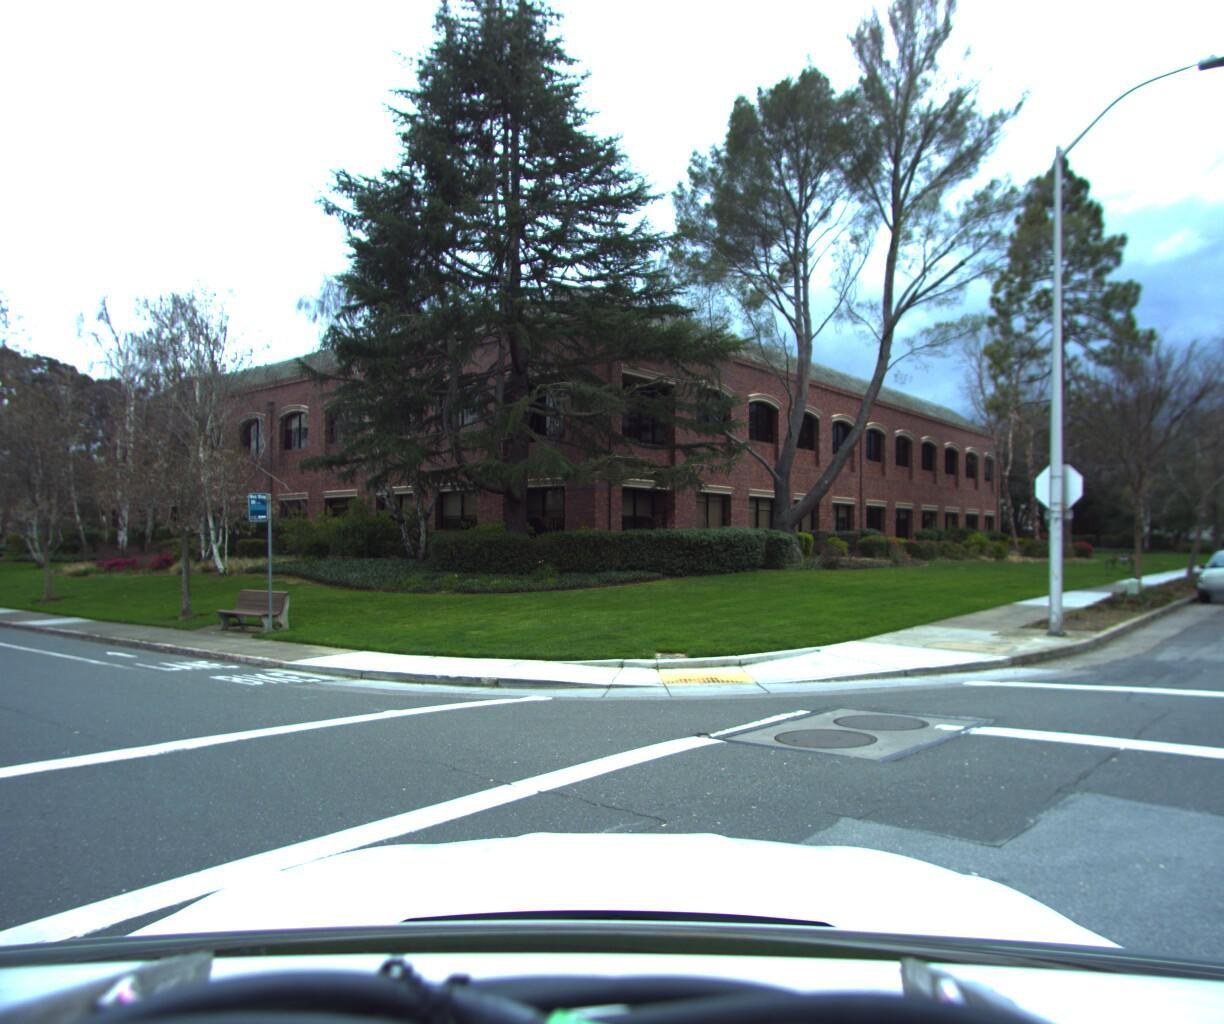car: (1184, 543, 1224, 606), (1215, 532, 1224, 589)
